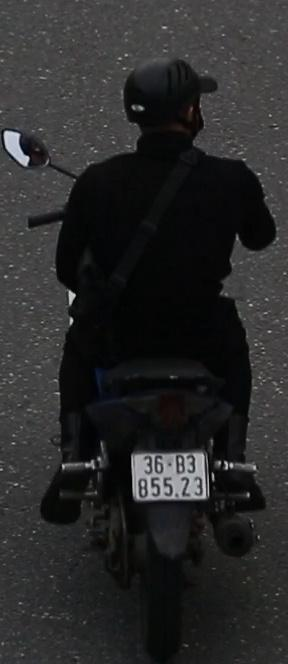LP: (127, 446, 212, 509)
helmet: (120, 49, 207, 146)
